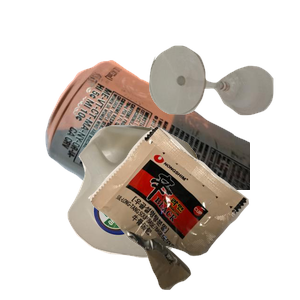glass: (147, 43, 300, 151)
metal: (43, 58, 283, 238)
plastic: (65, 123, 257, 300)
trash: (86, 124, 300, 300)
